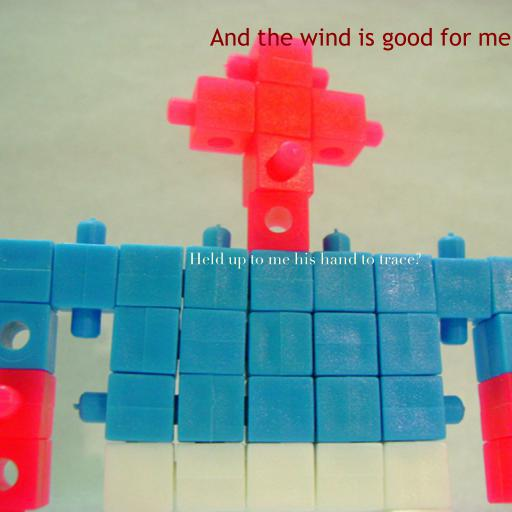Didot: (188, 252, 422, 269)
Trebuchet MS: (209, 27, 511, 51)
